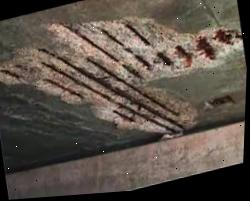exposed_rebar: (56, 57, 184, 128), (86, 57, 180, 116), (43, 61, 111, 101), (60, 22, 117, 60), (117, 102, 178, 132), (44, 78, 84, 100), (101, 29, 133, 53), (125, 23, 150, 44), (196, 36, 214, 59), (175, 45, 192, 65), (122, 64, 143, 78), (134, 54, 152, 70), (112, 110, 134, 121), (157, 51, 171, 65), (0, 68, 19, 78), (215, 29, 226, 42), (38, 48, 55, 56)
spalling: (0, 15, 243, 134), (208, 94, 234, 105)
